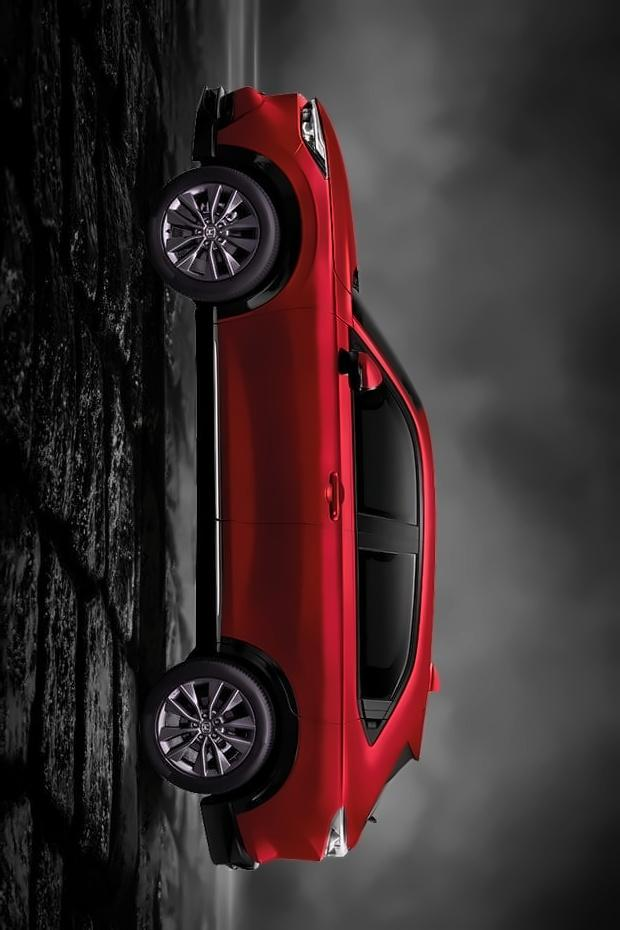Car hood: (317, 112, 362, 322)
Fender - -F-L-: (174, 144, 357, 336)
Fender - -R-L-: (185, 596, 429, 822)
Front bumper: (192, 77, 309, 173)
Headlight - -L-: (293, 90, 329, 169)
Passenger-s door - -F-L-: (180, 302, 442, 554)
Passenger-s door - -R-L-: (173, 497, 437, 745)
Rear bumper: (182, 782, 324, 874)
Rear light - -L-: (319, 800, 349, 867)
Side bumper - -L-: (176, 295, 267, 656)
Side mirror - -L-: (329, 334, 386, 397)
